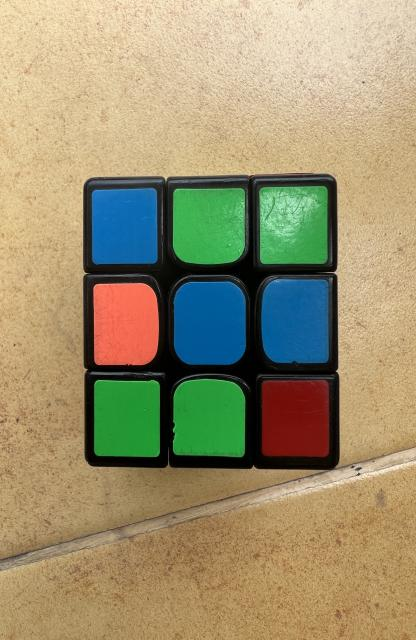Blue: (173, 281, 246, 365), (261, 279, 329, 364), (92, 189, 157, 264)
Green: (173, 379, 246, 458), (172, 188, 245, 264), (259, 186, 328, 264), (94, 380, 160, 458)
Orange: (93, 284, 159, 365)
Red: (262, 380, 329, 458)
